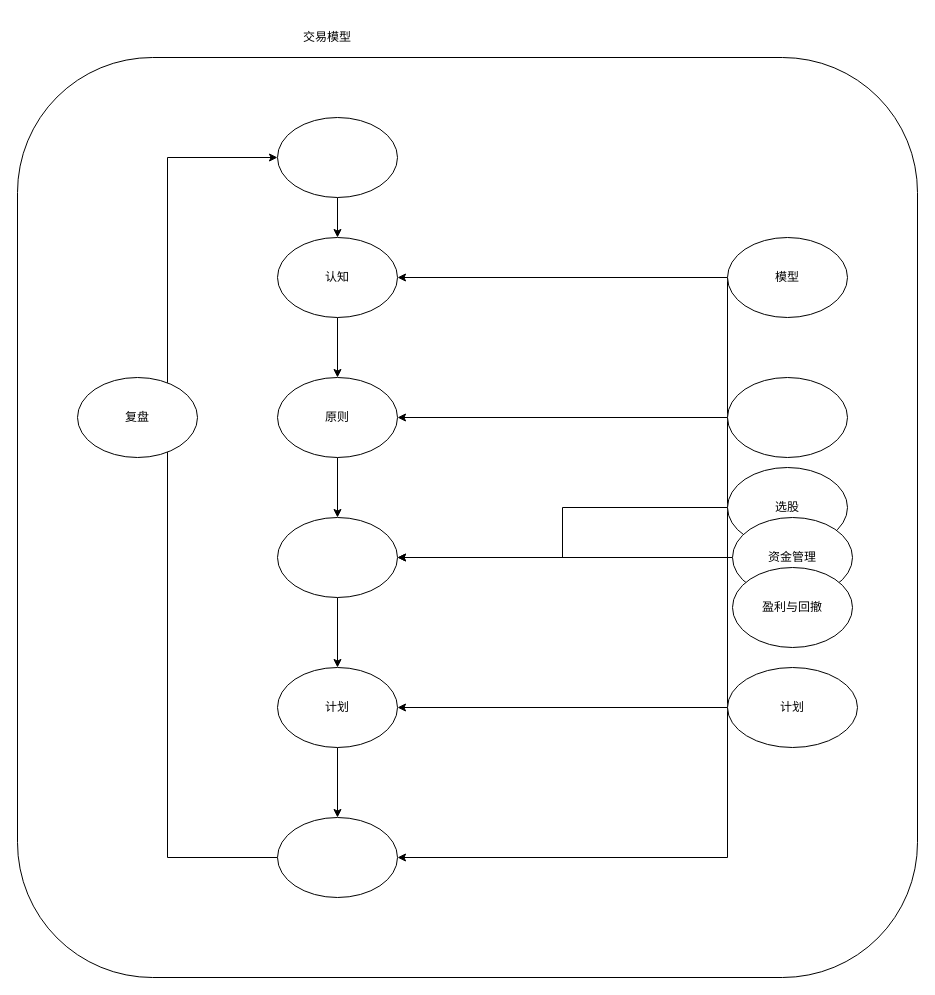
Image size: 935x995. Some labels were removed from this diagram. The centre of each missing label's shape, as x and y in pixels:
"执行" belongs at pixel 337 857.
"术(模式 )" belongs at pixel 337 557.
"输入" belongs at pixel 337 157.
"风险" belongs at pixel 787 417.
